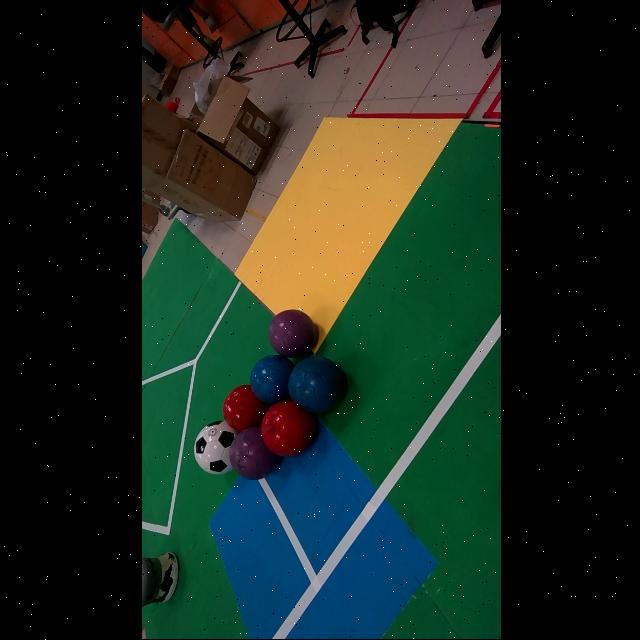B: (287, 357, 343, 413), (248, 355, 292, 406)
P: (228, 427, 277, 481), (266, 310, 316, 358)
R: (260, 400, 315, 458), (221, 385, 267, 432)
